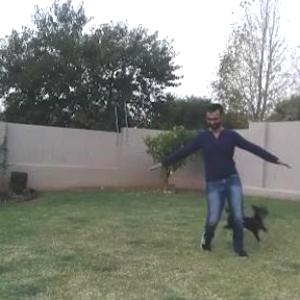land: (138, 98, 286, 261)
